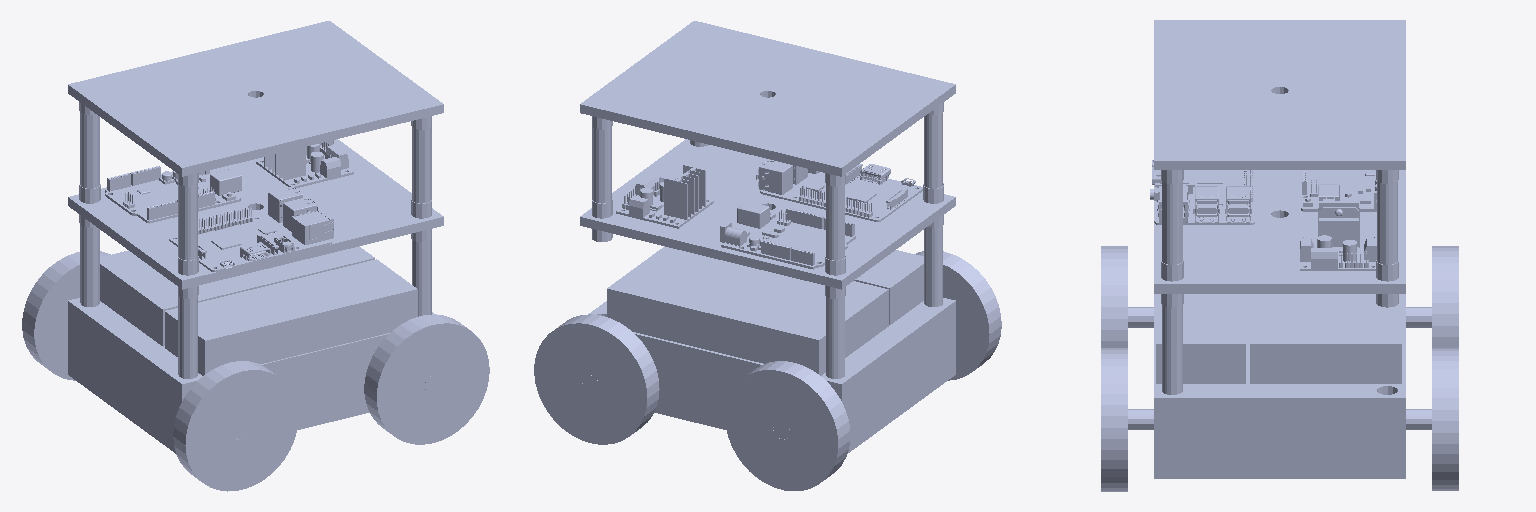
The robot description file, URDF, robot "final_urdf_fourwheeler":
<?xml version="1.0" encoding="utf-8"?>
<!-- This URDF was automatically created by SolidWorks to URDF Exporter! Originally created by [author] ([email redacted]) 
     Commit Version: 1.5.1-0-g916b5db  Build Version: 1.5.7152.31018
     For more information, please see http://wiki.ros.org/sw_urdf_exporter -->
<robot
  name="final_urdf_fourwheeler">
  <link
    name="base_link">
    <inertial>
      <origin
        xyz="-0.000387532227116392 -0.000173219779708905 0.0558182605423744"
        rpy="0 0 0" />
      <mass
        value="2.21308511536271" />
      <inertia
        ixx="0.00327520778138025"
        ixy="2.13044414248449E-07"
        ixz="-1.94207222655302E-07"
        iyy="0.00591554139457983"
        iyz="4.24895475403773E-08"
        izz="0.00855376592008038" />
    </inertial>
    <visual>
      <origin
        xyz="0 0 0"
        rpy="0 0 0" />
      <geometry>
        <mesh
          filename="package://final_urdf_fourwheeler/meshes/base_link.STL" />
      </geometry>
      <material
        name="">
        <color
          rgba="0.792156862745098 0.819607843137255 0.933333333333333 1" />
      </material>
    </visual>
    <collision>
      <origin
        xyz="0 0 0"
        rpy="0 0 0" />
      <geometry>
        <mesh
          filename="package://final_urdf_fourwheeler/meshes/base_link.STL" />
      </geometry>
    </collision>
  </link>
  <link
    name="front_rw">
    <inertial>
      <origin
        xyz="0.0675 -0.0925 0.025"
        rpy="0 0 0" />
      <mass
        value="7.37017636532166E-05" />
      <inertia
        ixx="3.15259294026634E-08"
        ixy="5.70882465640418E-24"
        ixz="2.50746644739091E-40"
        iyy="6.02880426683312E-08"
        iyz="3.08763268169525E-40"
        izz="3.15259294026634E-08" />
    </inertial>
    <visual>
      <origin
        xyz="0 0 0"
        rpy="0 0 0" />
      <geometry>
        <mesh
          filename="package://final_urdf_fourwheeler/meshes/front_rw.STL" />
      </geometry>
      <material
        name="">
        <color
          rgba="0.792156862745098 0.819607843137255 0.933333333333333 1" />
      </material>
    </visual>
    <collision>
      <origin
        xyz="0 0 0"
        rpy="0 0 0" />
      <geometry>
        <mesh
          filename="package://final_urdf_fourwheeler/meshes/front_rw.STL" />
      </geometry>
    </collision>
  </link>
  <joint
    name="front_rj"
    type="revolute">
    <origin
      xyz="0 0 0"
      rpy="0 0 0" />
    <parent
      link="base_link" />
    <child
      link="front_rw" />
    <axis
      xyz="0 -1 0" />
    <limit
      lower="0"
      upper="0"
      effort="0"
      velocity="0" />
  </joint>
  <link
    name="front_lw">
    <inertial>
      <origin
        xyz="0.0674999999999993 0.0925 0.025"
        rpy="0 0 0" />
      <mass
        value="7.37017636532166E-05" />
      <inertia
        ixx="3.15259294026634E-08"
        ixy="6.14557601983217E-24"
        ixz="6.60384811910538E-24"
        iyy="6.02880426683312E-08"
        iyz="-7.67623608449211E-25"
        izz="3.15259294026634E-08" />
    </inertial>
    <visual>
      <origin
        xyz="0 0 0"
        rpy="0 0 0" />
      <geometry>
        <mesh
          filename="package://final_urdf_fourwheeler/meshes/front_lw.STL" />
      </geometry>
      <material
        name="">
        <color
          rgba="0.792156862745098 0.819607843137255 0.933333333333333 1" />
      </material>
    </visual>
    <collision>
      <origin
        xyz="0 0 0"
        rpy="0 0 0" />
      <geometry>
        <mesh
          filename="package://final_urdf_fourwheeler/meshes/front_lw.STL" />
      </geometry>
    </collision>
  </link>
  <joint
    name="front_lj"
    type="revolute">
    <origin
      xyz="0 0 0"
      rpy="0 0 0" />
    <parent
      link="base_link" />
    <child
      link="front_lw" />
    <axis
      xyz="0 1 0" />
    <limit
      lower="0"
      upper="0"
      effort="0"
      velocity="0" />
  </joint>
  <link
    name="rear_rw">
    <inertial>
      <origin
        xyz="-0.0675 -0.0925 0.025"
        rpy="0 0 0" />
      <mass
        value="7.37017636532166E-05" />
      <inertia
        ixx="3.15259294026634E-08"
        ixy="6.10587135042963E-24"
        ixz="6.81689882562607E-24"
        iyy="6.02880426683312E-08"
        iyz="-8.33798057453453E-25"
        izz="3.15259294026634E-08" />
    </inertial>
    <visual>
      <origin
        xyz="0 0 0"
        rpy="0 0 0" />
      <geometry>
        <mesh
          filename="package://final_urdf_fourwheeler/meshes/rear_rw.STL" />
      </geometry>
      <material
        name="">
        <color
          rgba="0.792156862745098 0.819607843137255 0.933333333333333 1" />
      </material>
    </visual>
    <collision>
      <origin
        xyz="0 0 0"
        rpy="0 0 0" />
      <geometry>
        <mesh
          filename="package://final_urdf_fourwheeler/meshes/rear_rw.STL" />
      </geometry>
    </collision>
  </link>
  <joint
    name="rear_rj"
    type="revolute">
    <origin
      xyz="0 0 0"
      rpy="0 0 0" />
    <parent
      link="base_link" />
    <child
      link="rear_rw" />
    <axis
      xyz="0 -1 0" />
    <limit
      lower="0"
      upper="0"
      effort="0"
      velocity="0" />
  </joint>
  <link
    name="rear_lw">
    <inertial>
      <origin
        xyz="-0.0675 0.0925 0.025"
        rpy="0 0 0" />
      <mass
        value="7.37017636532166E-05" />
      <inertia
        ixx="3.15259294026634E-08"
        ixy="5.70882465640418E-24"
        ixz="2.50746644739091E-40"
        iyy="6.02880426683312E-08"
        iyz="-2.76618777943199E-40"
        izz="3.15259294026634E-08" />
    </inertial>
    <visual>
      <origin
        xyz="0 0 0"
        rpy="0 0 0" />
      <geometry>
        <mesh
          filename="package://final_urdf_fourwheeler/meshes/rear_lw.STL" />
      </geometry>
      <material
        name="">
        <color
          rgba="0.792156862745098 0.819607843137255 0.933333333333333 1" />
      </material>
    </visual>
    <collision>
      <origin
        xyz="0 0 0"
        rpy="0 0 0" />
      <geometry>
        <mesh
          filename="package://final_urdf_fourwheeler/meshes/rear_lw.STL" />
      </geometry>
    </collision>
  </link>
  <joint
    name="rear_lj"
    type="revolute">
    <origin
      xyz="0 0 0"
      rpy="0 0 0" />
    <parent
      link="base_link" />
    <child
      link="rear_lw" />
    <axis
      xyz="0 1 0" />
    <limit
      lower="0"
      upper="0"
      effort="0"
      velocity="0" />
  </joint>
</robot>

--- Render facts (derived) ---
Views: 3 orthographic renders of the robot side by side, from view 1: azimuth 30°, elevation 25°; view 2: azimuth 150°, elevation 25°; view 3: azimuth 270°, elevation 25°.
Robot: final_urdf_fourwheeler — 5 links, 4 joints (4 revolute); root link base_link; default pose: every joint at zero.
Links seen in each view (by area): view 1: base_link, front_rw, rear_rw, rear_lw; view 2: base_link, rear_lw, front_lw, rear_rw; view 3: base_link, front_rw, front_lw, rear_rw, rear_lw.
Boxes of the visible links, bbox=[...] form: base_link: bbox=[68, 21, 443, 453]; front_rw: bbox=[364, 314, 489, 444]; rear_rw: bbox=[173, 361, 298, 491]; rear_lw: bbox=[22, 251, 110, 380]; base_link: bbox=[580, 21, 955, 452]; rear_lw: bbox=[725, 361, 849, 490]; front_lw: bbox=[534, 314, 659, 444]; rear_rw: bbox=[916, 251, 1001, 380]; base_link: bbox=[1128, 20, 1431, 478]; front_rw: bbox=[1101, 348, 1127, 491]; front_lw: bbox=[1432, 348, 1458, 490]; rear_rw: bbox=[1101, 246, 1127, 347]; rear_lw: bbox=[1432, 246, 1458, 347].
Size in the robot's own frame: 0.215 by 0.2 by 0.211 metres.
5 mesh visuals loaded from 5 distinct referenced files (5 binary STL).